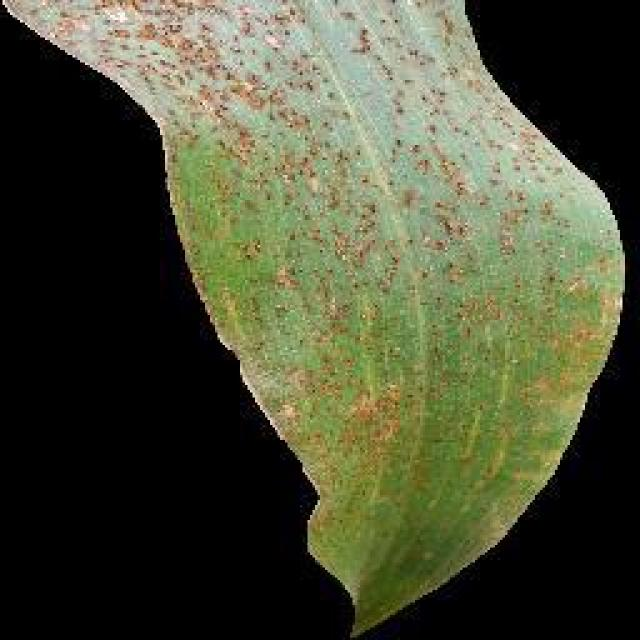Corn Common Rust: (188, 0, 520, 625)
